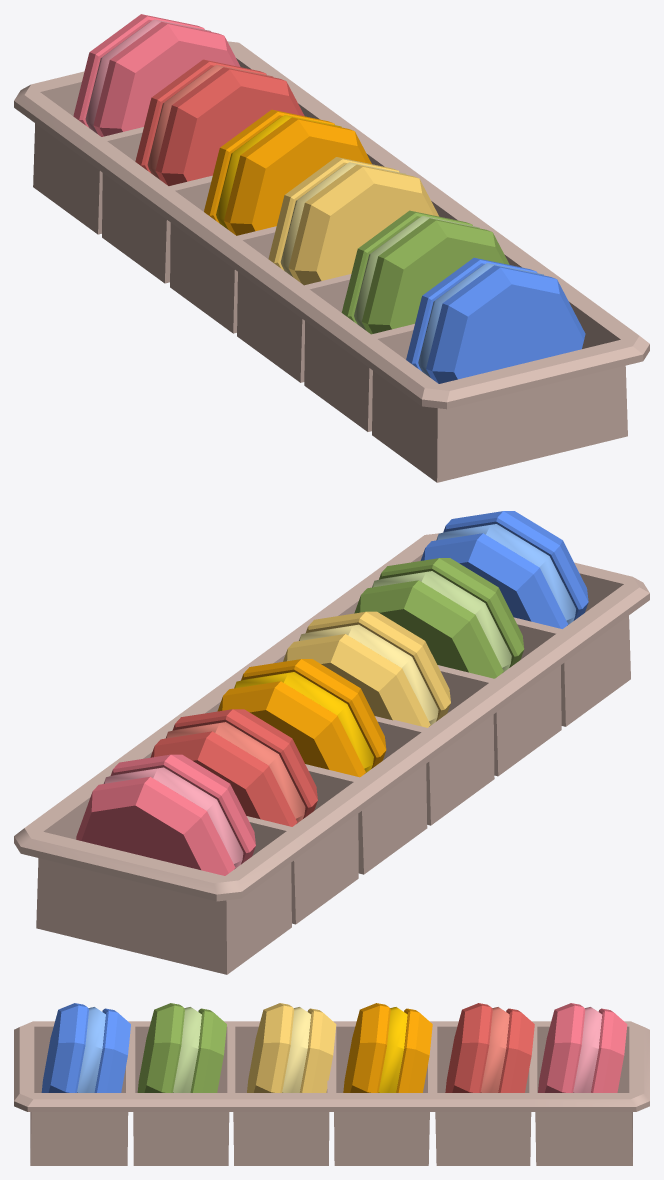
Rendered from PW_macaronbox.fbx.
The picture shows the model from 3 angles, top to bottom: view 1: azimuth 30°, elevation 25°; view 2: azimuth 150°, elevation 25°; view 3: azimuth 270°, elevation 25°; orthographic projection. The views are drawn at different scales.
Parts seen in each view (by area): view 1: macaronbox; view 2: macaronbox; view 3: macaronbox.
Boxes of the visible parts, <box> form: macaronbox: <box>14,14,649,482</box>; macaronbox: <box>14,511,649,974</box>; macaronbox: <box>14,1003,649,1165</box>.
Size of the model in its own units: 14.91 by 10.52 by 48.27.
Materials: 1 (1 with a texture image).
